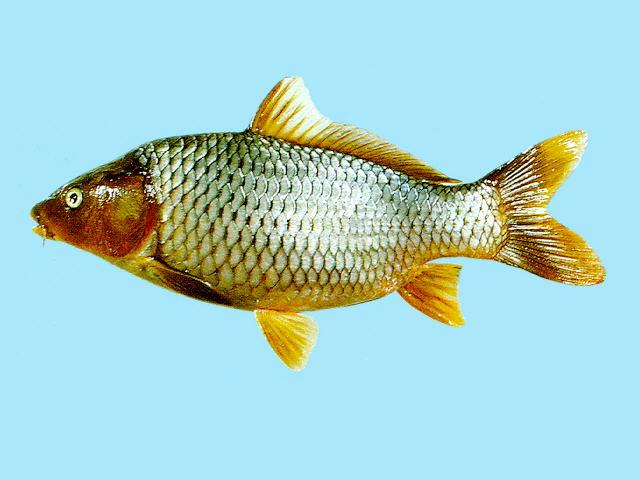Mulut: (18, 185, 62, 256)
Sirip Anal: (392, 260, 473, 336)
Sirip Dada: (134, 244, 242, 314)
Sirip Ekor: (477, 118, 615, 296)
Sirip Perut: (250, 299, 322, 381)
Sirip Punggung: (245, 63, 470, 198)
